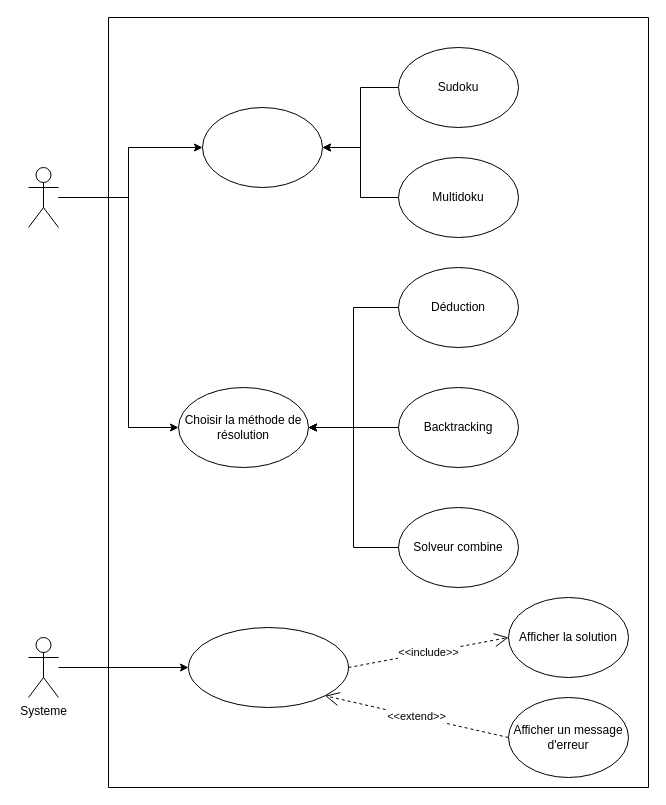
Some shapes in this 666 by 805 pixel diagram are drawn without their labels. Here are the shapes that lost their labels. From the top down, the centre of each, then its label:
At point (262, 147): "Charger une grille".
At point (43, 197): "Utilisateur".
At point (268, 667): "Appliquer algorithme en tenant compte des contraintes".
